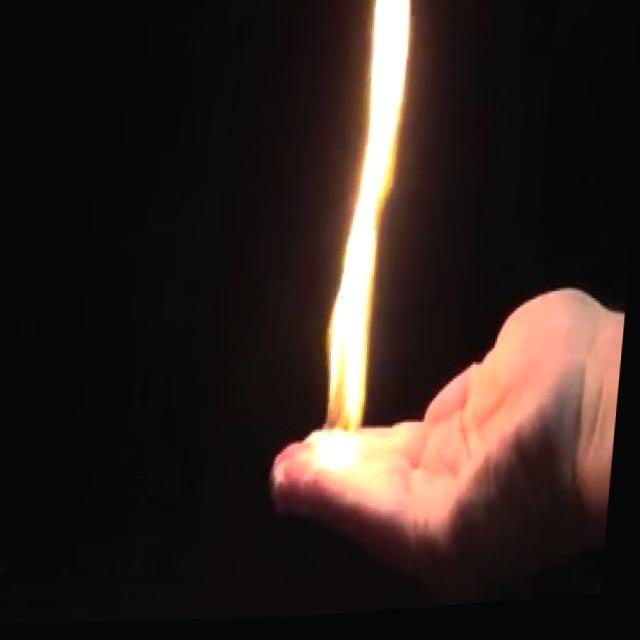helmet: (305, 0, 434, 497)
